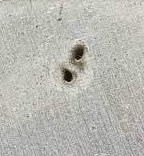Spalling: (69, 40, 88, 67), (61, 67, 77, 85)
